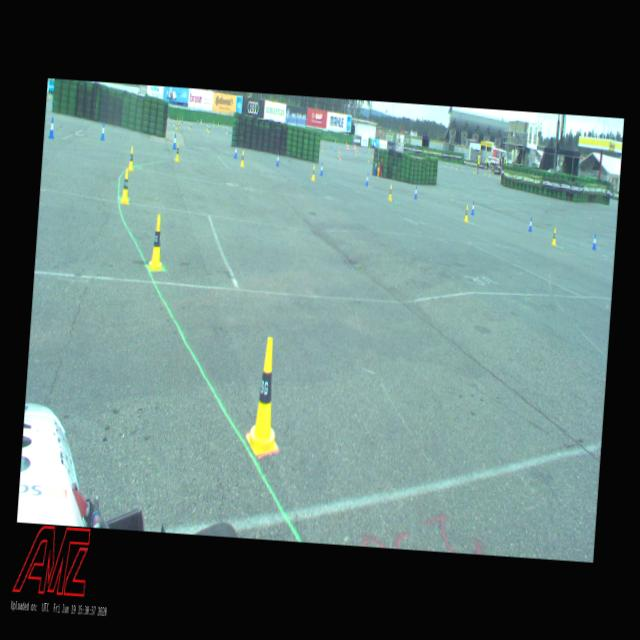blue_cone: (48, 118, 55, 138), (100, 122, 106, 140), (591, 233, 597, 250), (172, 134, 177, 149), (528, 217, 532, 231), (413, 184, 417, 198), (275, 152, 279, 166), (470, 201, 474, 214), (234, 144, 237, 158), (366, 172, 368, 185), (320, 162, 322, 174)
yellow_cone: (244, 336, 285, 456), (148, 215, 166, 269), (120, 168, 132, 204), (128, 146, 135, 171), (174, 142, 180, 160), (551, 228, 557, 245), (310, 164, 316, 180), (388, 184, 392, 200), (240, 150, 244, 166), (464, 206, 468, 222)
